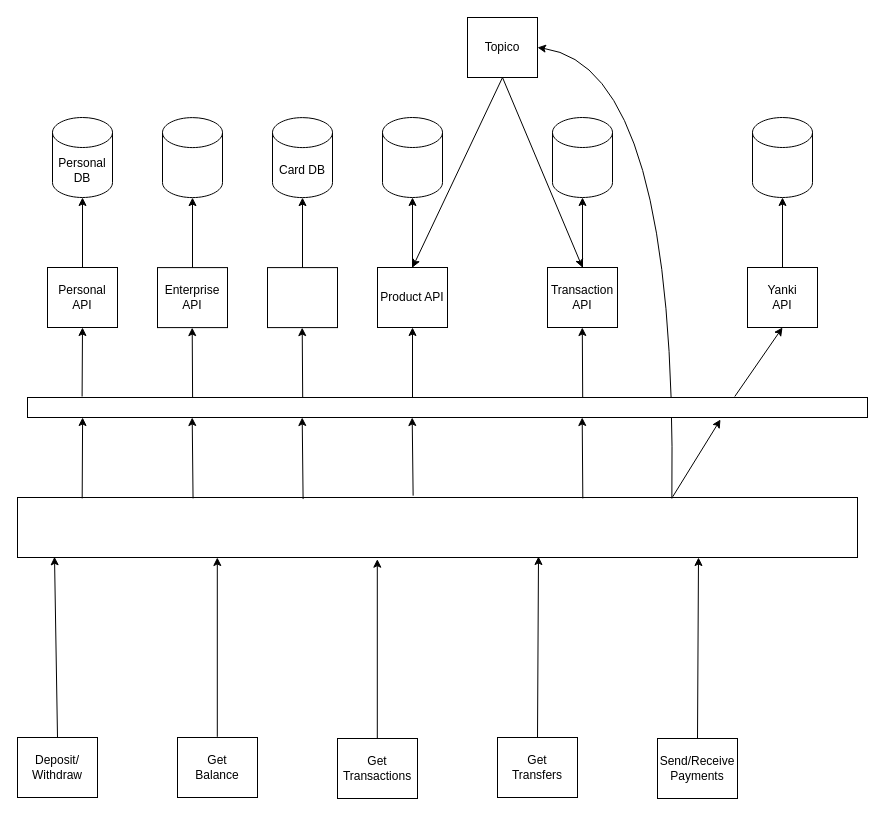
This 885x816 diagram has some shape labels left out. Each missing label, with the centre of its shape:
Card API: point (302, 297)
Enterprise DB: point (192, 157)
Gateway: point (447, 407)
Product DB: point (412, 157)
Transaction DB: point (582, 157)
UX-AccountOperations: point (437, 527)
Yanki DB: point (782, 157)
